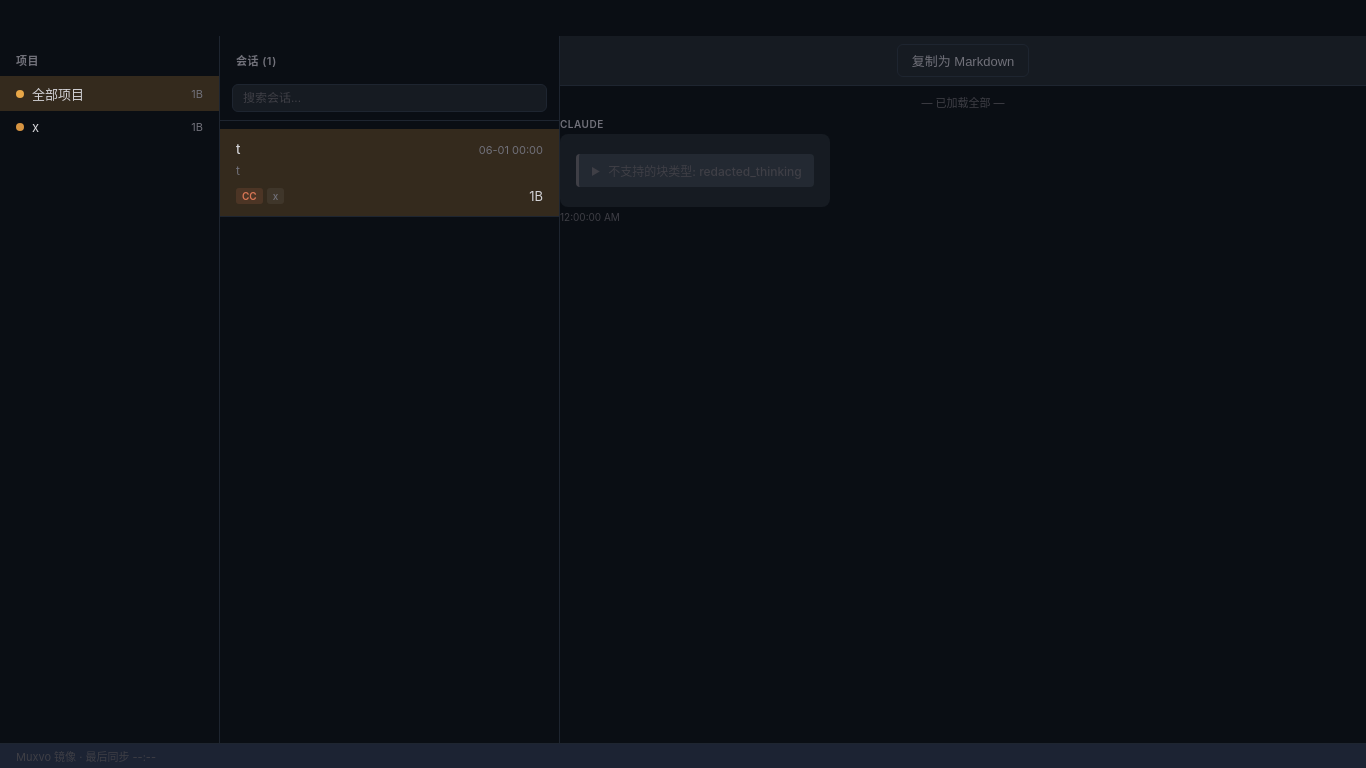
unknown 占位块（live-only） › 默认折叠：header「不支持的块类型: {name}」；展开后 <pre> 原文 JSON
Expected: the element with class "unknown-block" is shown, x1=576 y1=154 x2=814 y2=187
Expected: the text with class "unknown-block__label" reads "不支持的块类型: redacted_thinking", x1=608 y1=162 x2=802 y2=179
Click the element with class "unknown-block__header" at (696, 170), box x1=591 y1=162 x2=802 y2=179
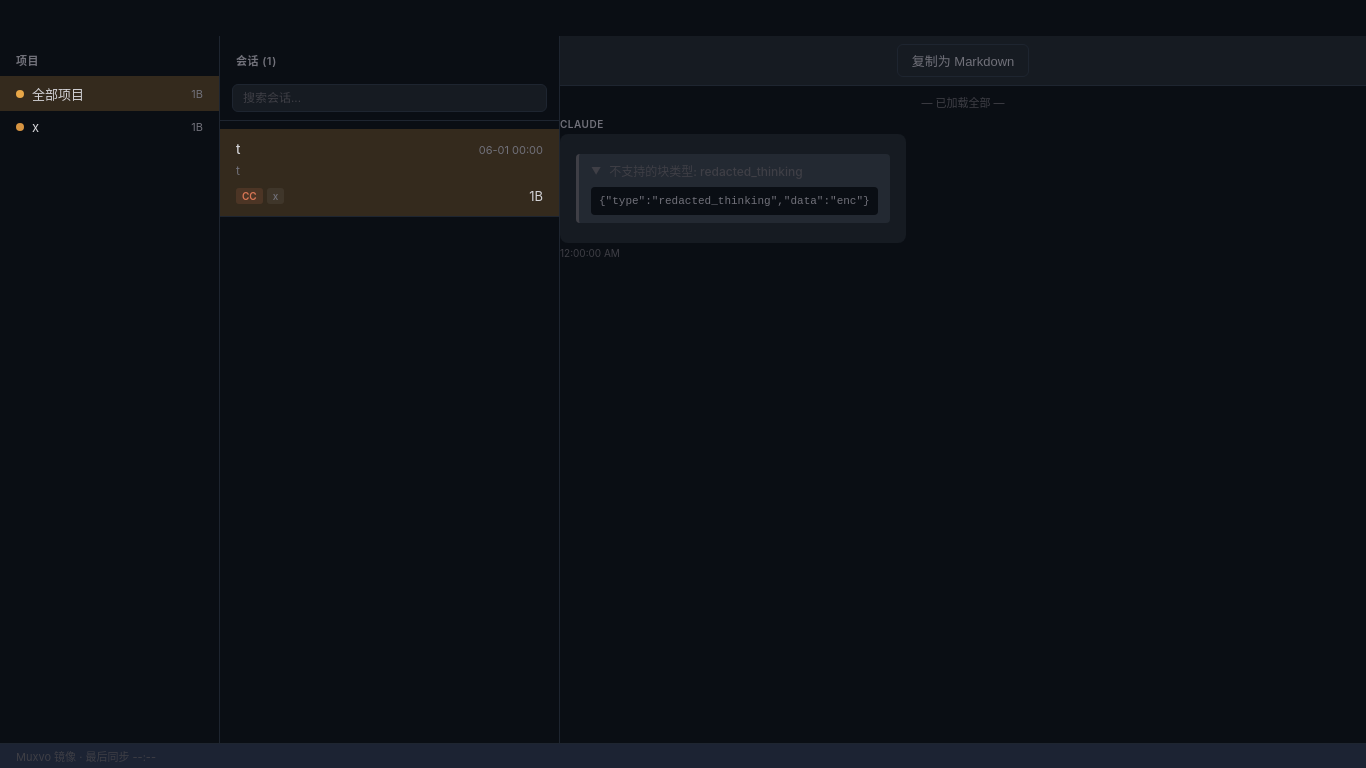
Expected: the text "{\"type\":\"redacted_thinking\",\"data\":\"enc\"}" is shown, x1=591 y1=187 x2=878 y2=215
Expected: the text with class "unknown-block__content" reads "{\"type\":\"redacted_thinking\",\"data\":\"enc\"}", x1=599 y1=195 x2=870 y2=207
